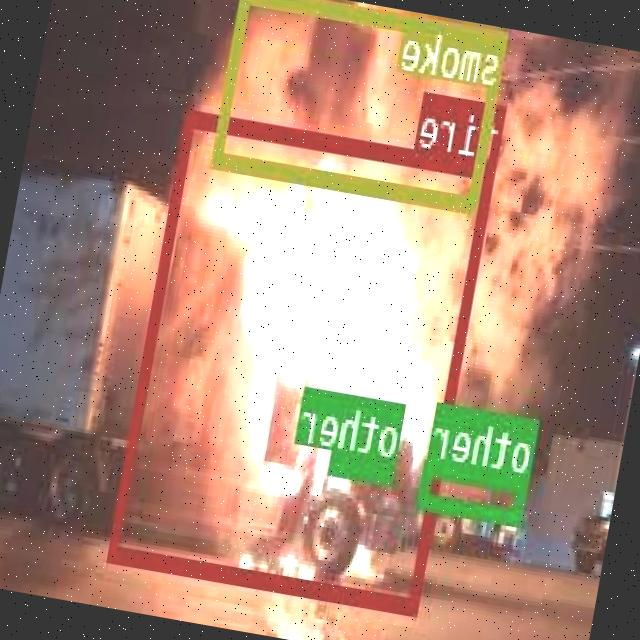fire: (110, 108, 500, 612)
smoke: (212, 0, 510, 209)
